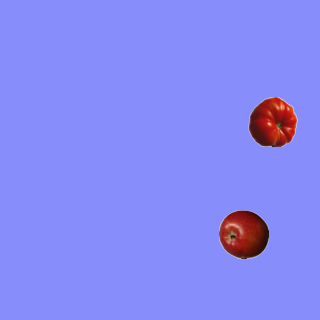Apple Braeburn: (218, 209, 268, 259)
Tomato 3: (247, 96, 297, 146)
